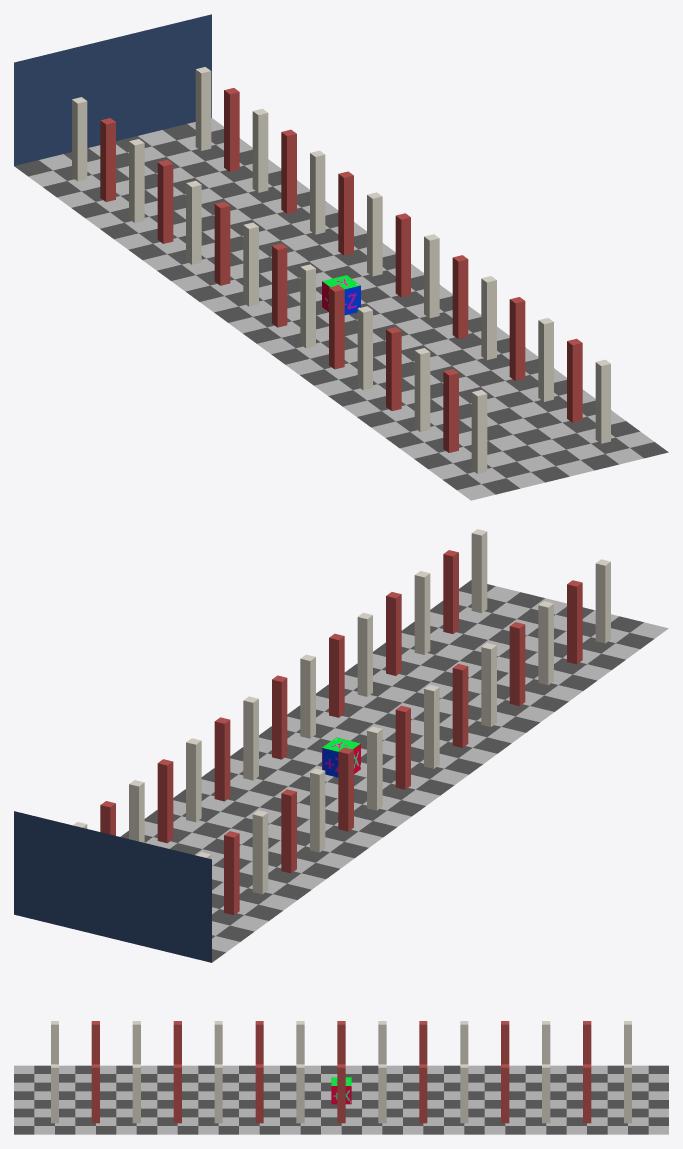
The model's file is DollyHallway.glb.
3 views of the same model, one above another, from view 1: azimuth 30°, elevation 25°; view 2: azimuth 150°, elevation 25°; view 3: azimuth 270°, elevation 25° (orthographic). The views are drawn at different scales.
Parts seen in each view (by area): view 1: WallFar, Pillar_-2_1, Pillar_4_-1, Pillar_5_1, Pillar_-7_-1, Pillar_-5_-1, Pillar_2_-1, Pillar_7_1, Pillar_-4_1, Pillar_-1_-1, Pillar_2_1, Pillar_4_1 (+20 smaller); view 2: WallFar, Pillar_-7_1, Pillar_-4_-1, Pillar_-2_-1, Pillar_5_-1, Pillar_-5_1, Pillar_2_1, Pillar_4_1, Pillar_1_1, Pillar_-7_-1, Pillar_-2_1, Pillar_2_-1 (+17 smaller); view 3: Pillar_-1_1, Pillar_0_1, Pillar_1_1, Pillar_-6_1, Pillar_-5_1, Pillar_-4_1, Pillar_-3_1, Pillar_-2_1, Pillar_2_1, Pillar_3_1, Pillar_4_1, Pillar_5_1 (+19 smaller).
Boxes of the visible parts, x1,y1,x2,y2 form: WallFar: (14,14,211,165); Pillar_-2_1: (452,255,468,339); Pillar_4_-1: (157,159,173,243); Pillar_5_1: (252,108,268,192); Pillar_-7_-1: (471,390,487,473); Pillar_-5_-1: (414,348,430,431); Pillar_2_-1: (214,201,230,285); Pillar_7_1: (195,67,211,150); Pillar_-4_1: (509,297,525,380); Pillar_-1_-1: (300,264,315,348); Pillar_2_1: (338,171,353,255); Pillar_4_1: (281,129,296,213); WallFar: (14,811,211,962); Pillar_-7_1: (471,529,487,613); Pillar_-4_-1: (509,622,525,705); Pillar_-2_-1: (452,664,468,747); Pillar_5_-1: (252,810,268,894); Pillar_-5_1: (414,571,430,654); Pillar_2_1: (214,717,230,801); Pillar_4_1: (157,759,173,843); Pillar_1_1: (243,696,258,780); Pillar_-7_-1: (595,559,610,643); Pillar_-2_1: (329,633,344,717); Pillar_2_-1: (338,747,353,831); Pillar_-1_1: (296,1064,304,1123); Pillar_0_1: (337,1064,345,1123); Pillar_1_1: (378,1064,386,1123); Pillar_-6_1: (91,1064,99,1123); Pillar_-5_1: (132,1064,140,1123); Pillar_-4_1: (173,1064,181,1123); Pillar_-3_1: (214,1064,222,1123); Pillar_-2_1: (255,1064,263,1123); Pillar_2_1: (419,1064,427,1123); Pillar_3_1: (460,1064,468,1123); Pillar_4_1: (501,1064,509,1123); Pillar_5_1: (542,1064,550,1123).
Bounding box in the file's own units: 16 × 8 × 64.
6 materials, 1 textured.
